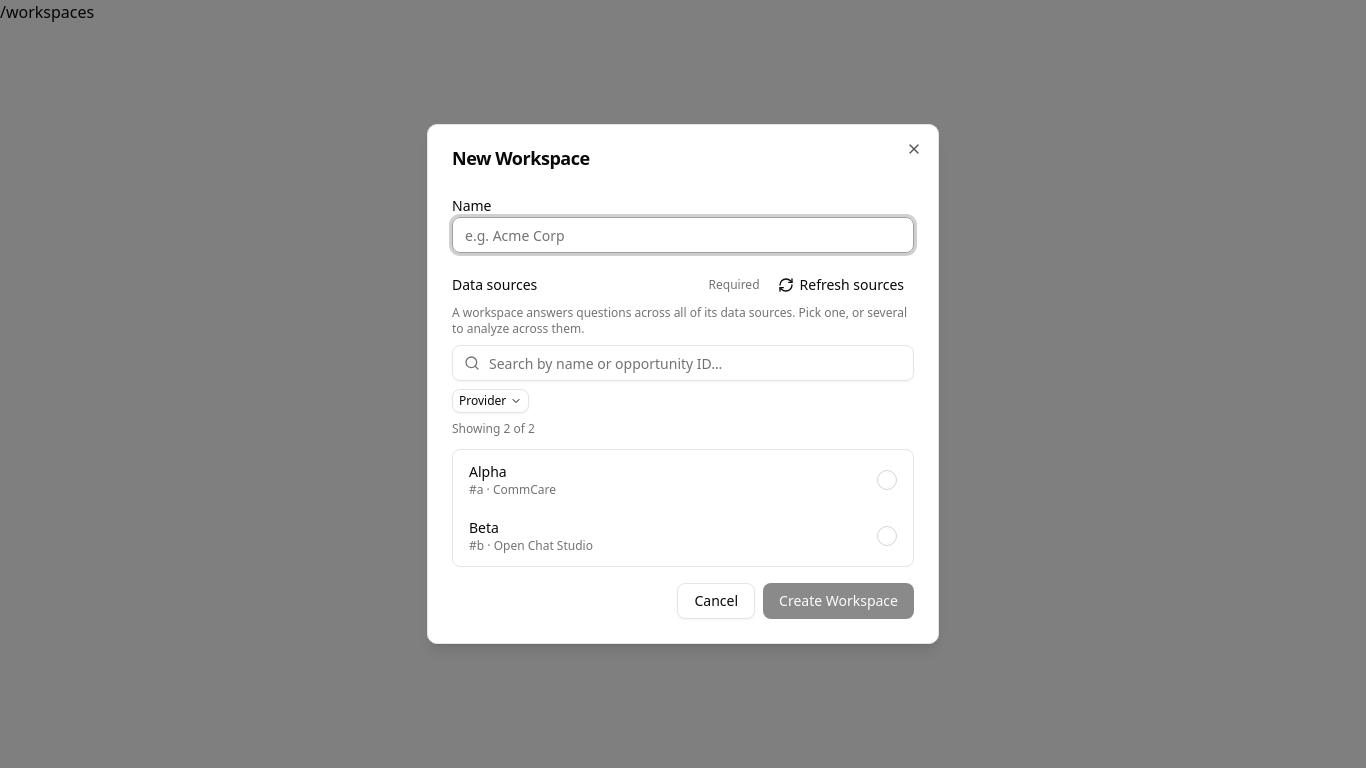
Scenario: opens a fresh chat in the new workspace
The width and height of the screenshot is (1366, 768).
Check: the element with test id "create-sources-list" is shown, box [452,449,914,567]
Type "Analysis" into the field labelled "Name".
click(683, 235); type("Analysis")  # box [452,217,914,253]
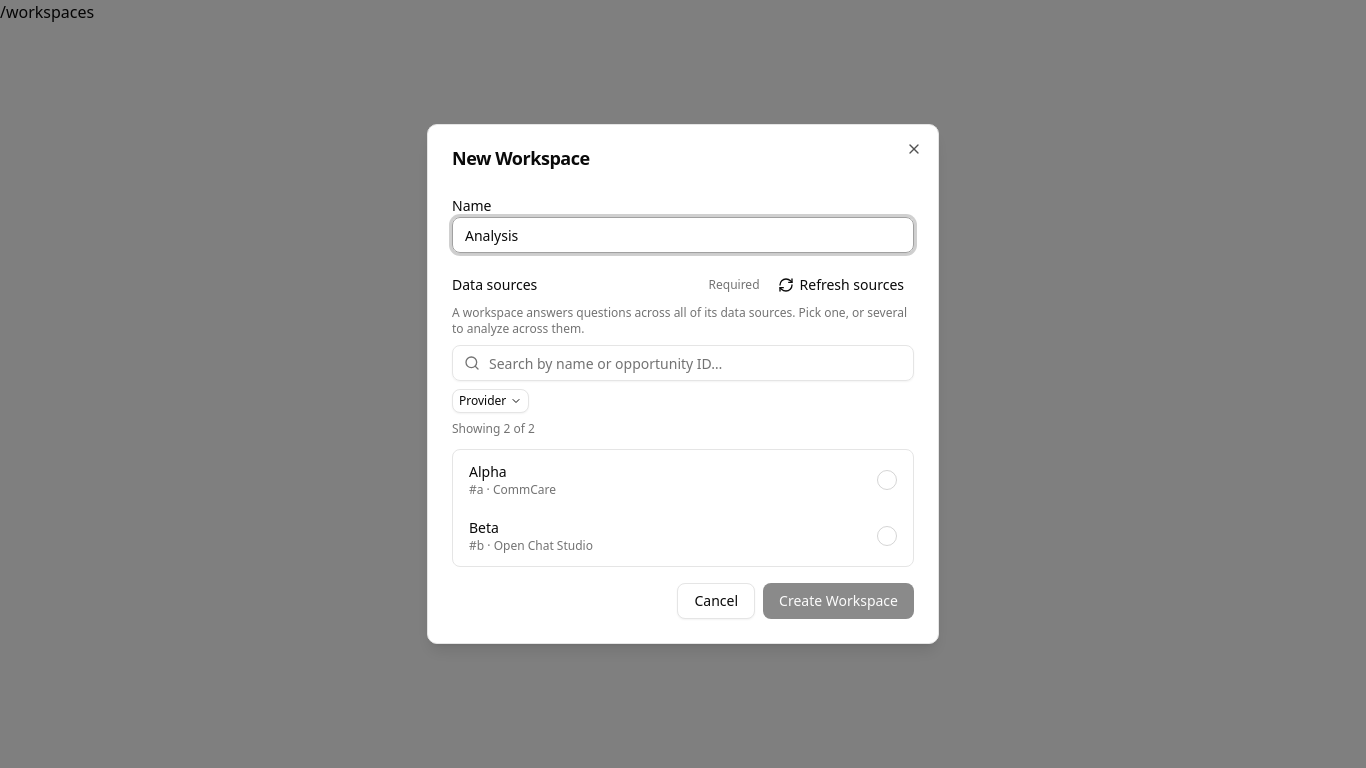
Click the button with test id "create-source-tenant-a".
click(488, 472)  # box [457,454,909,506]
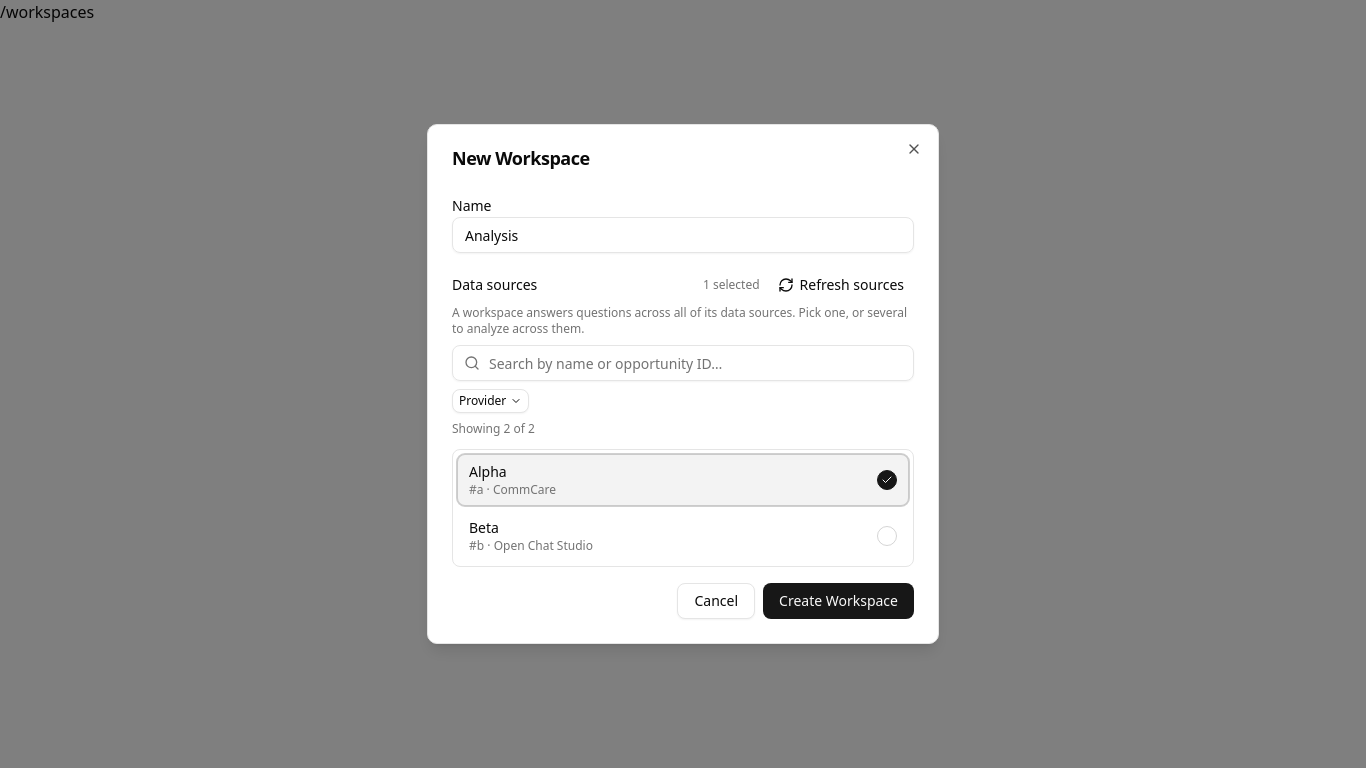
Click the button with test id "create-workspace-submit".
click(838, 601)  # box [763,583,914,619]
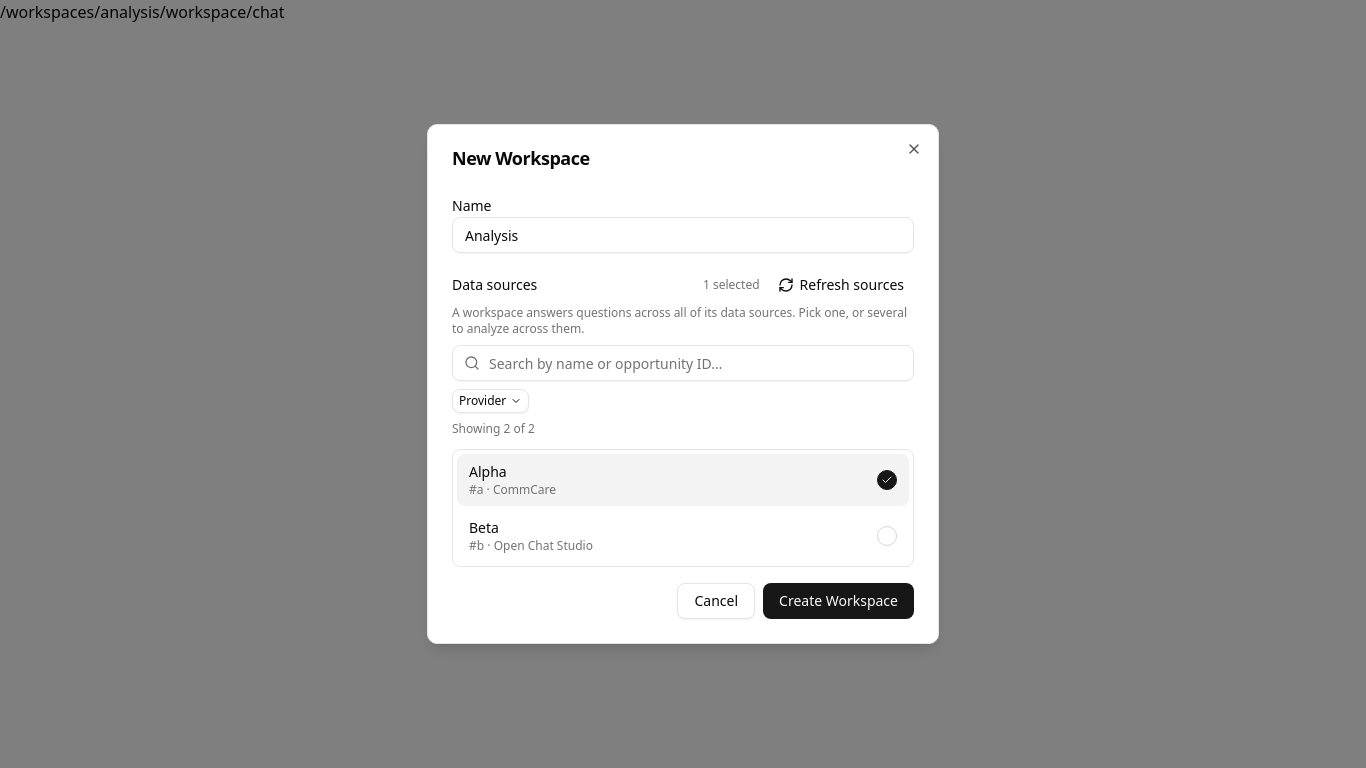
Check: the text with test id "current-path" reads "/workspaces/analysis/workspace/chat", box [0,1,285,23]
